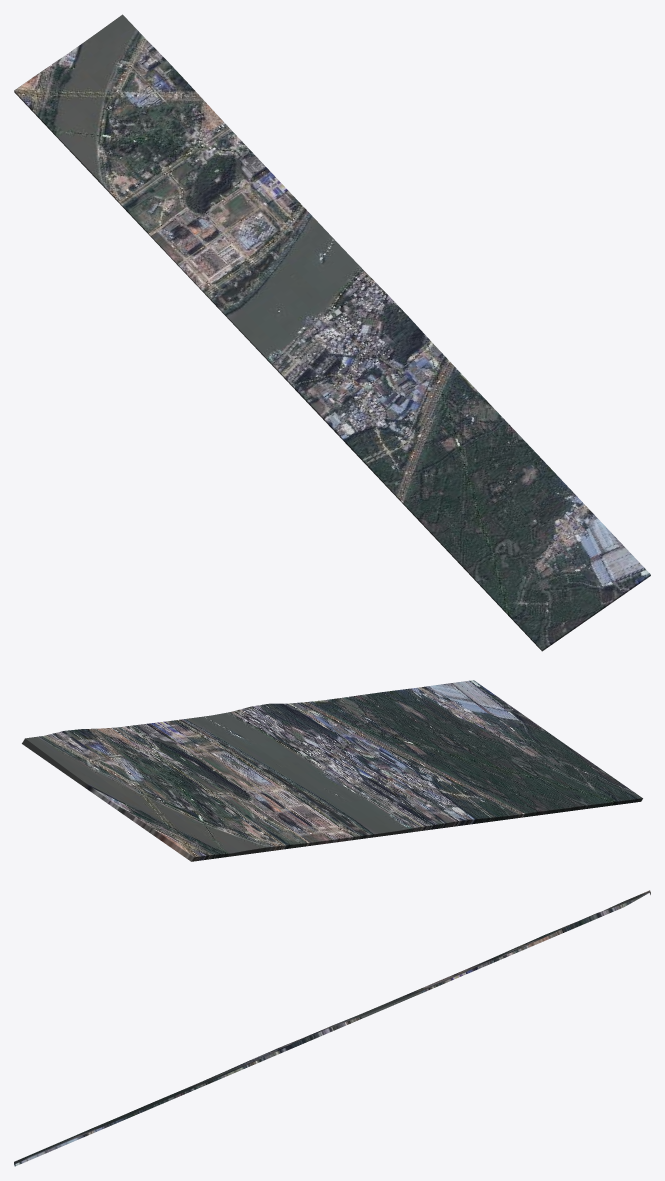
3 views of the same model, one above another, from view 1: azimuth 30°, elevation 25°; view 2: azimuth 150°, elevation 25°; view 3: azimuth 270°, elevation 25° (orthographic). The views are drawn at different scales.
Parts seen in each view (by area): view 1: 3_2_4; view 2: 3_2_4; view 3: 3_2_4.
Part boxes in pixels (x1=…): 3_2_4: x1=14, y1=14, x2=650, y2=651; 3_2_4: x1=22, y1=680, x2=642, y2=861; 3_2_4: x1=14, y1=890, x2=650, y2=1166.
Bounding box in the file's own units: 1089 × 1551 × 3362.
Materials: 1 (1 with a texture image).
